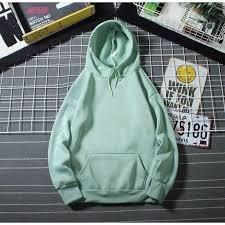sweater: (44, 20, 186, 208)
